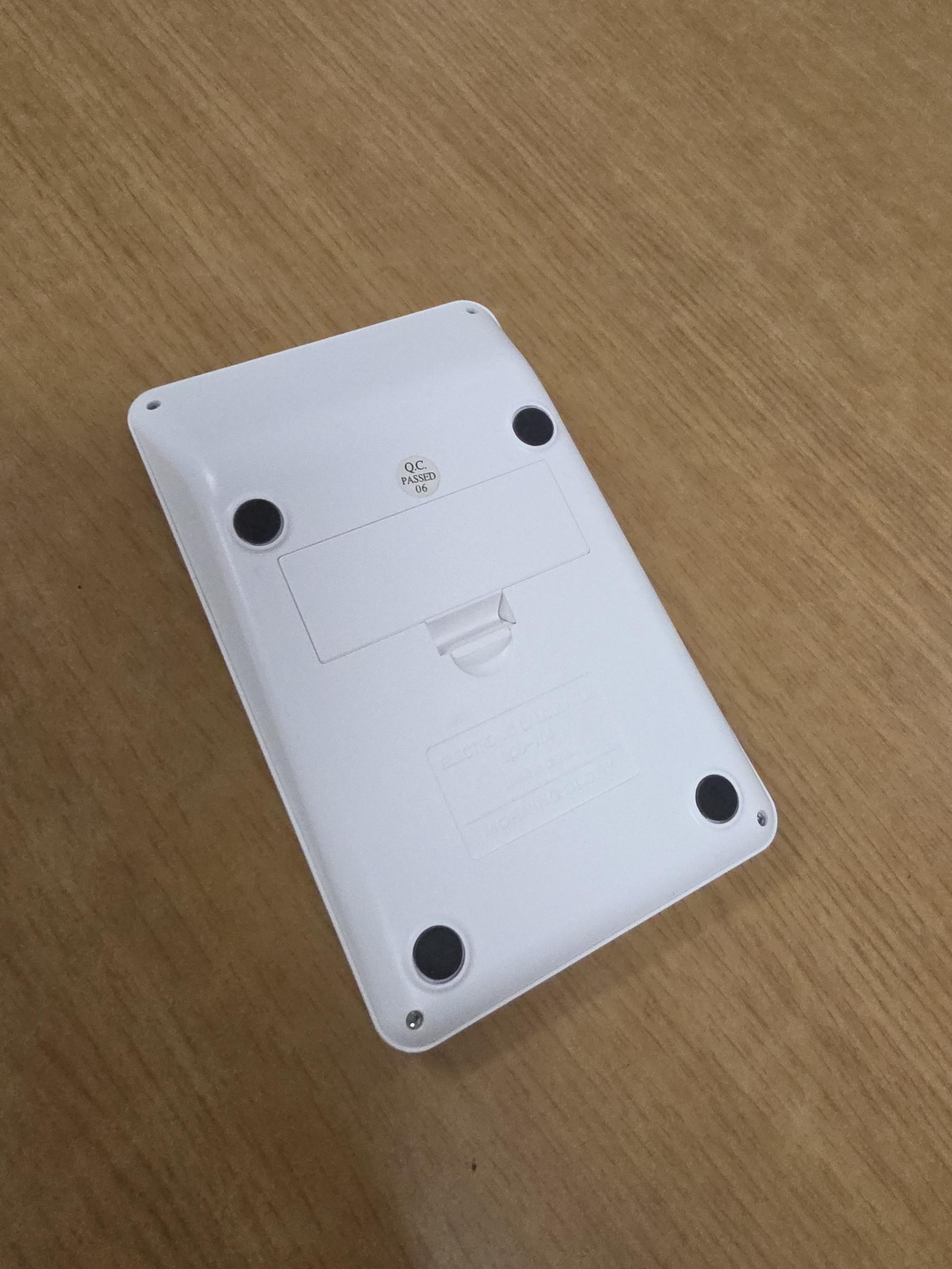calculator: (127, 299, 779, 1055)
